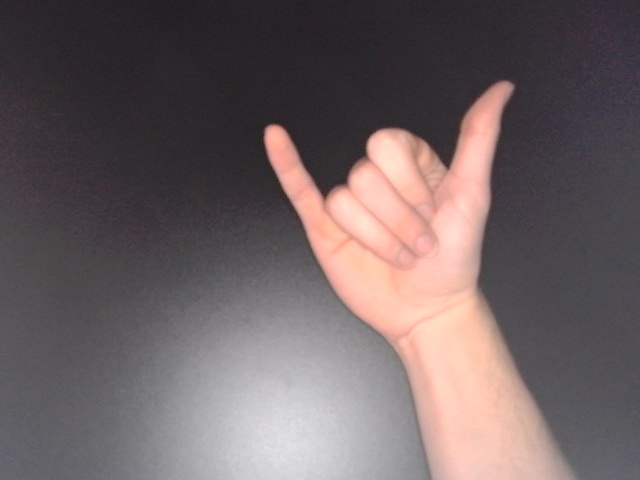y: (257, 76, 519, 348)
